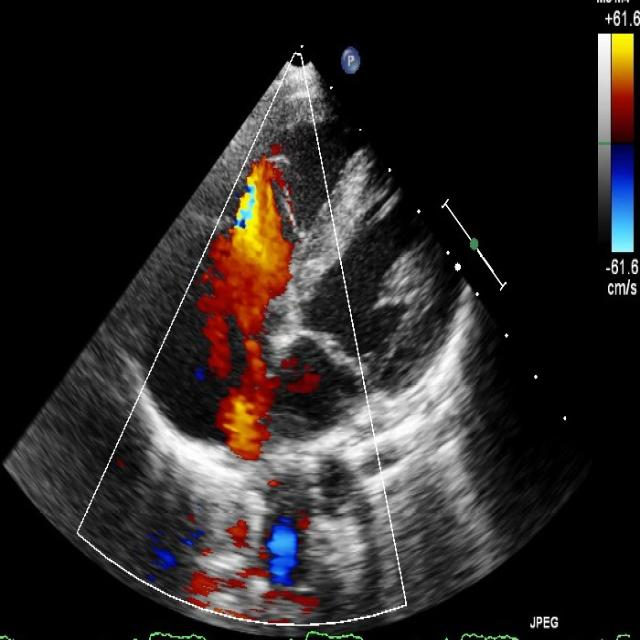ASDType2: (212, 318, 318, 460)
